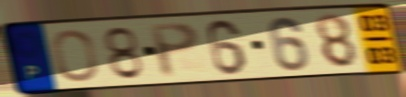6: (266, 14, 311, 73), (206, 17, 249, 77)
8: (313, 12, 358, 69), (101, 25, 144, 81)
O: (50, 28, 101, 85)
P: (146, 20, 202, 80)
